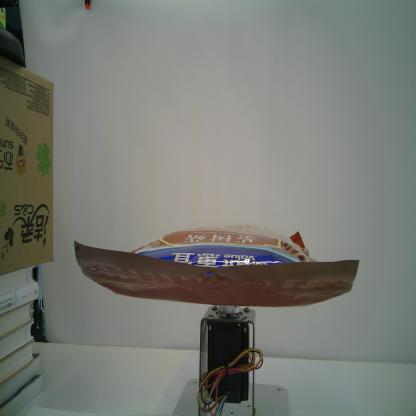Dried Food: (73, 222, 361, 309)
